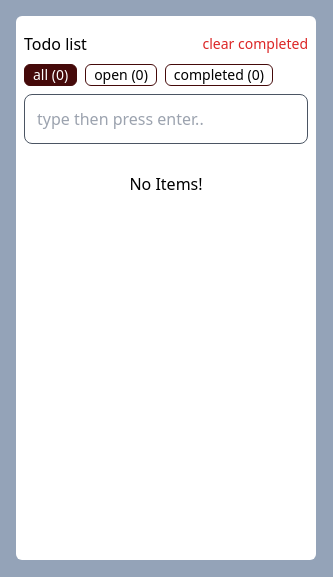
Add an Item
# Add an item
Type "New Item" into the field with test id "todo-input" at (166, 119), box left=24, top=94, right=308, bottom=144
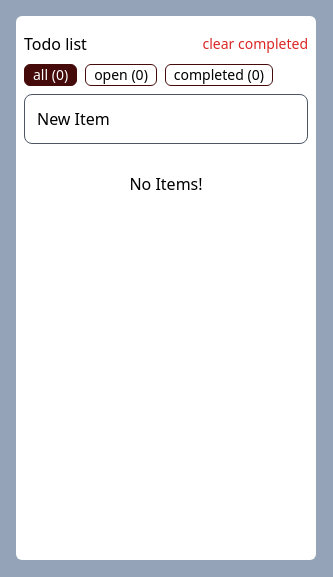
Press Enter in the field with test id "todo-input", box left=24, top=94, right=308, bottom=144
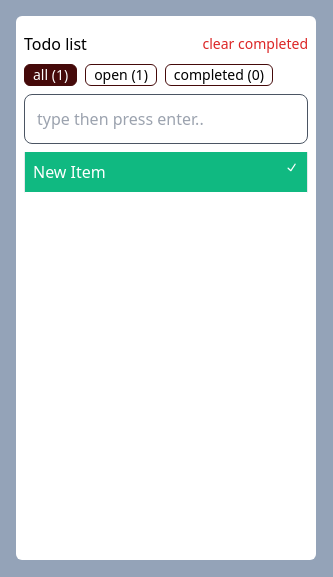
Result: the text "New Item" is shown at left=33, top=161, right=106, bottom=183
Result: the number of list items with test id "todo-item" is 1 at left=24, top=152, right=308, bottom=193
Result: the field with test id "todo-input" is empty at left=24, top=94, right=308, bottom=144
